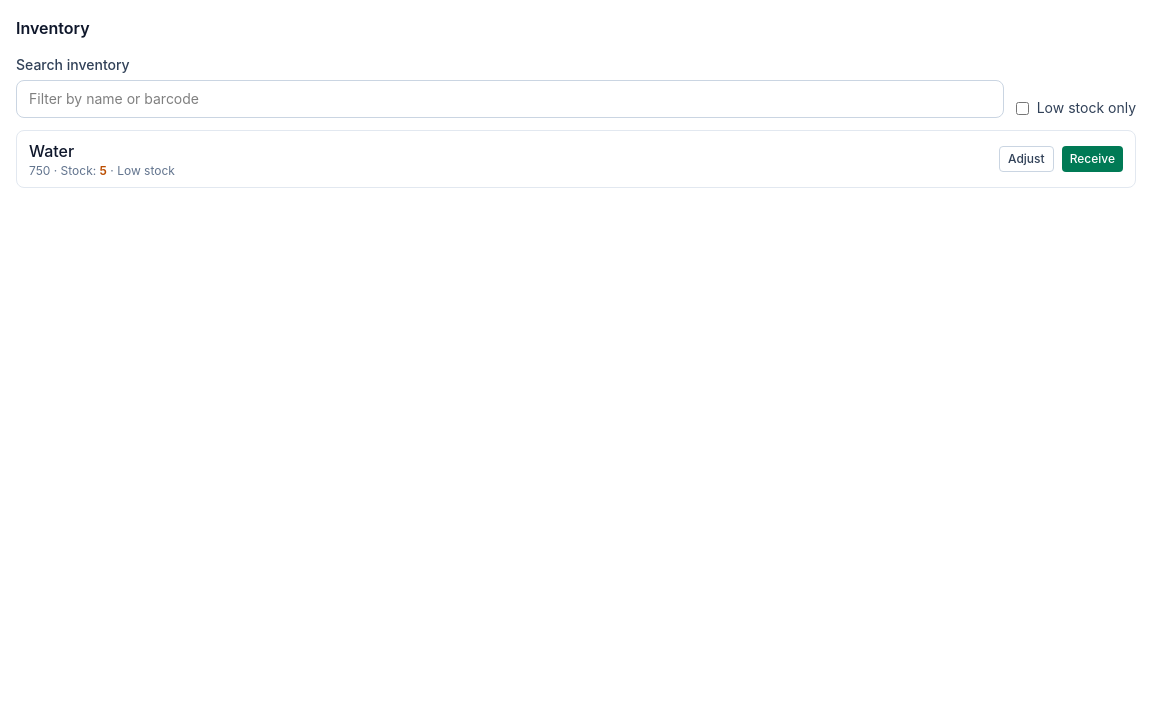
Test: InventoryWorkspace › opens receive modal and focuses quantity
The image size is (1152, 720).
Expected: the text "Water" is shown, [29, 141, 74, 161]
Step 1. Click the button with test id "inventory-receive-p1" → (1092, 159), box [1062, 146, 1123, 172]
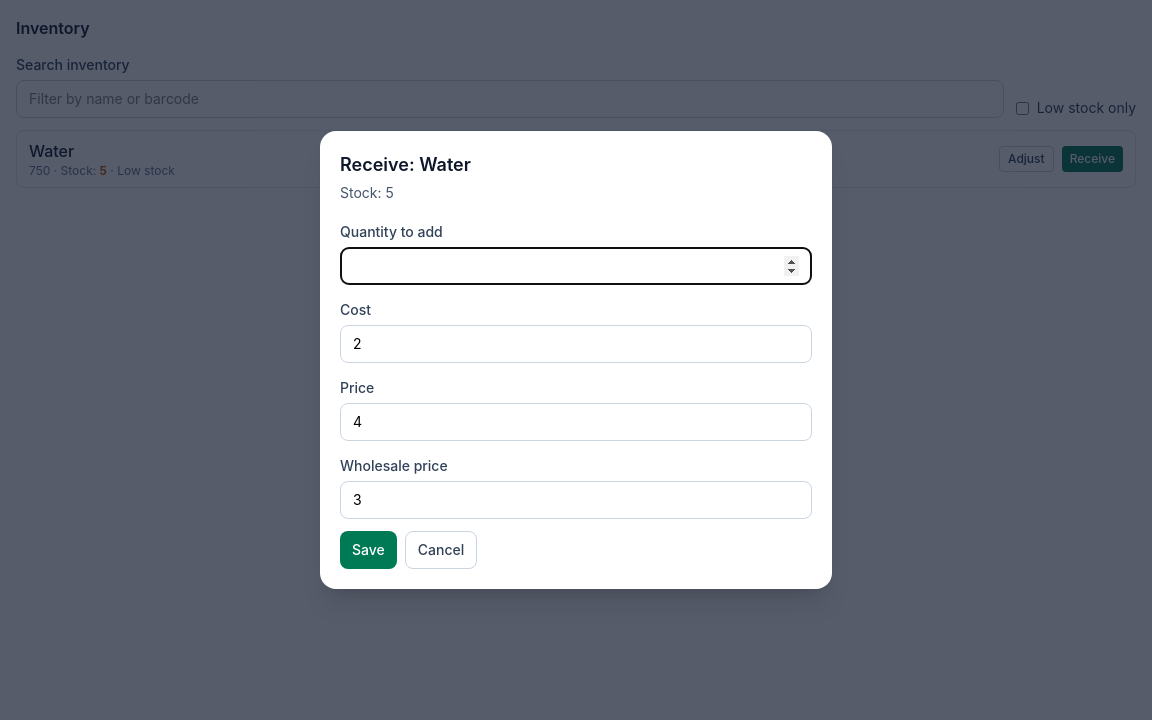
Now the dialog with test id "inventory-movement-modal" is shown
